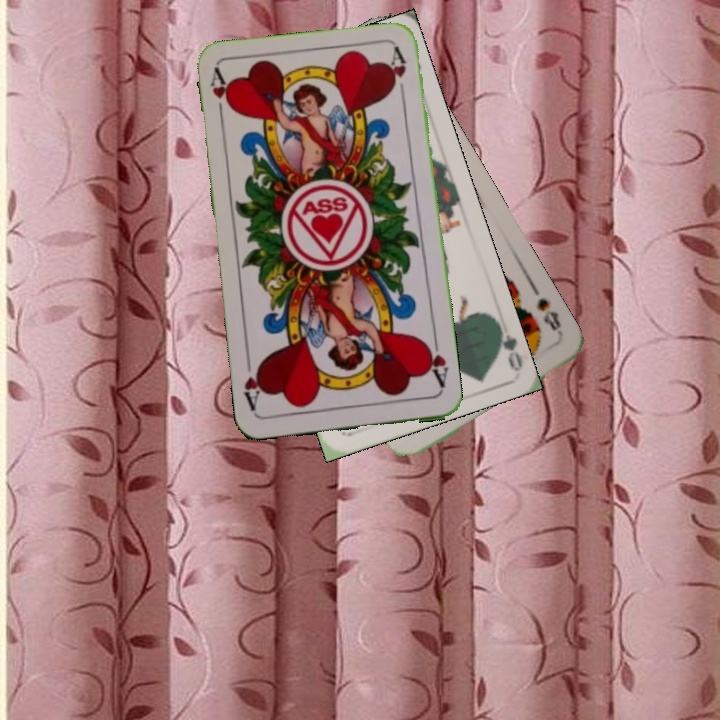GO: (490, 314, 525, 371)
HA: (420, 334, 451, 393), (206, 66, 235, 125)
S8: (532, 294, 566, 342)
